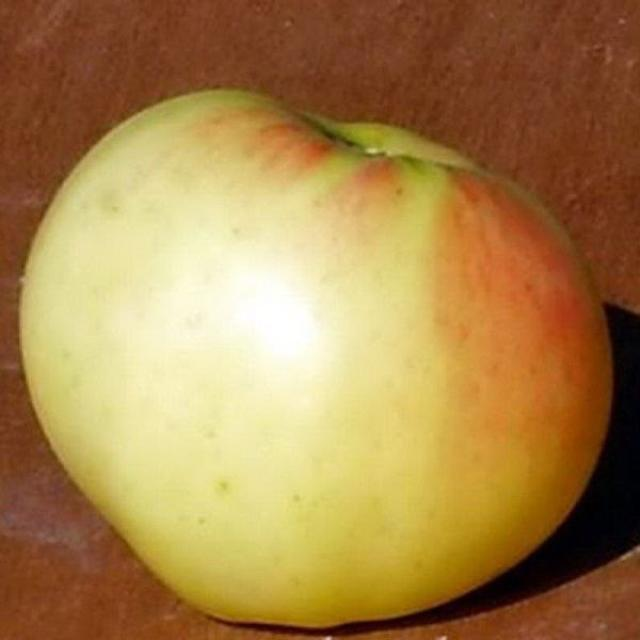Healty Apple: (21, 90, 613, 629)
